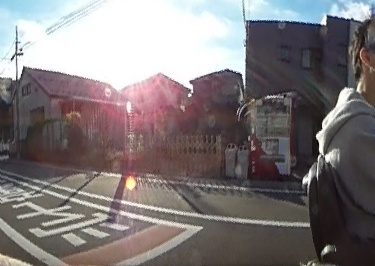person: (328, 13, 375, 255)
